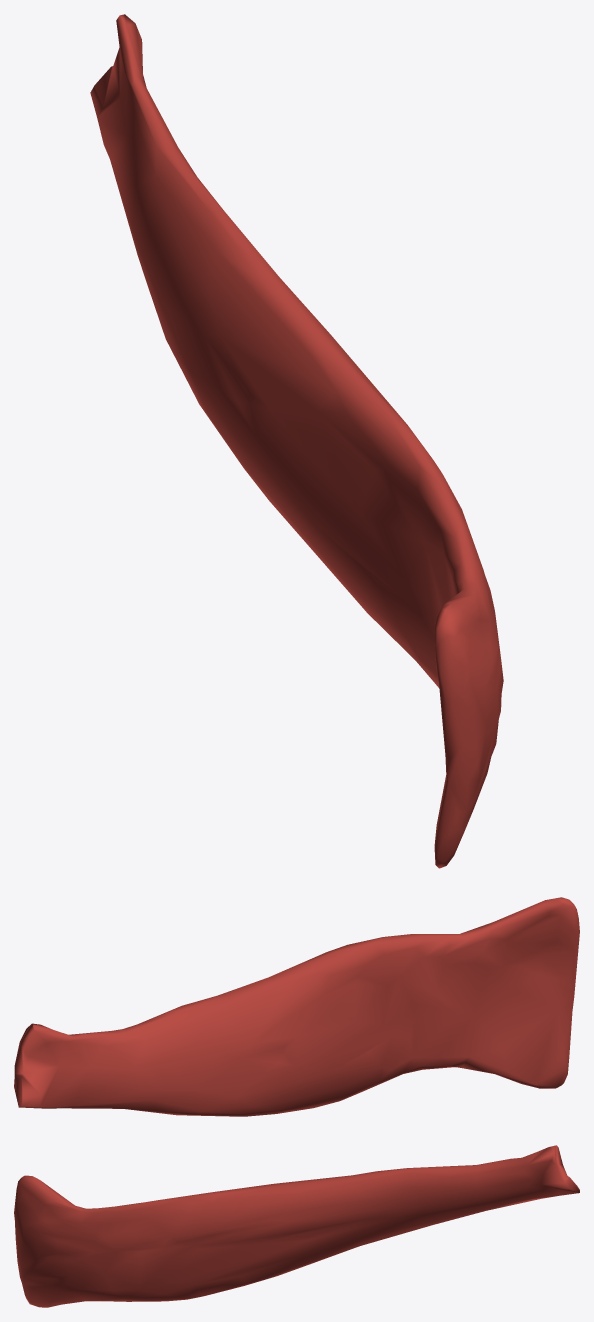
Rendered from musculos-medial-rectus-muscle-r.glb.
3 views of the same model, one above another, from view 1: azimuth 30°, elevation 25°; view 2: azimuth 150°, elevation 25°; view 3: azimuth 270°, elevation 25° (orthographic). The views are drawn at different scales.
Parts seen in each view (by area): view 1: Medial rectus muscle.r; view 2: Medial rectus muscle.r; view 3: Medial rectus muscle.r.
Part boxes in pixels (x1=…): Medial rectus muscle.r: x1=90, y1=14, x2=503, y2=868; Medial rectus muscle.r: x1=14, y1=897, x2=579, y2=1116; Medial rectus muscle.r: x1=14, y1=1145, x2=579, y2=1307.
Bounding box in the file's own units: 0.00998 × 0.0166 × 0.0404.
